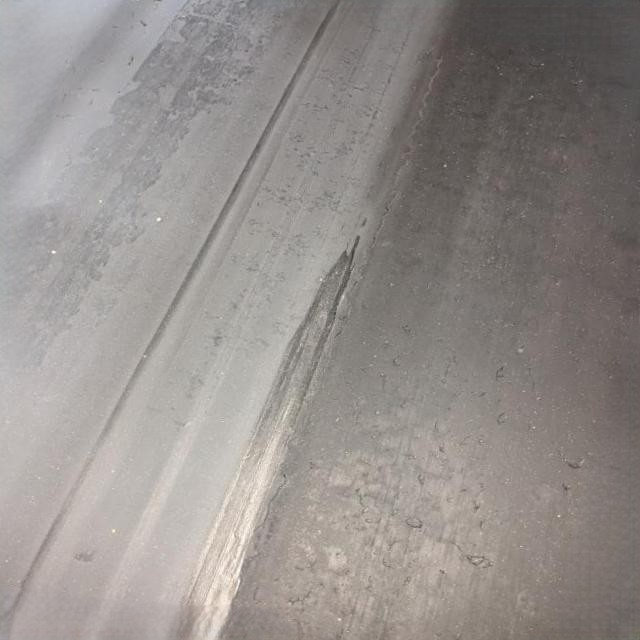Wear: (176, 235, 366, 625)
